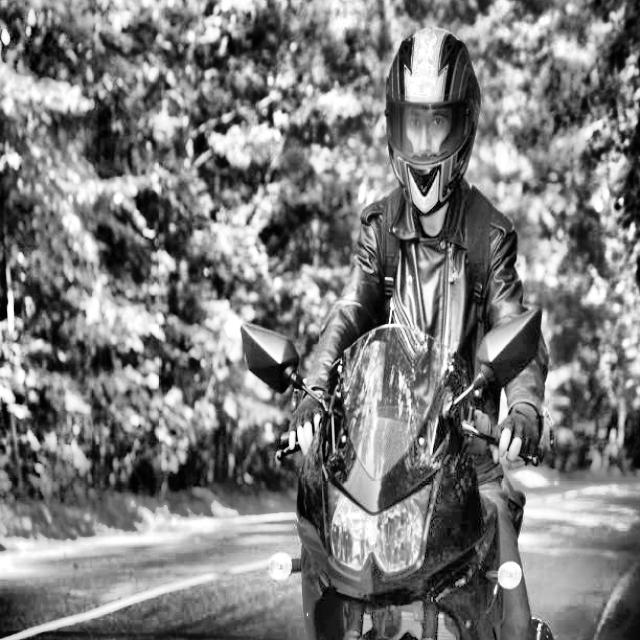Helmet: (384, 21, 484, 221)
